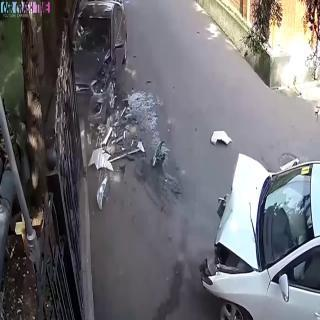multiple_accident: (61, 9, 303, 303)
